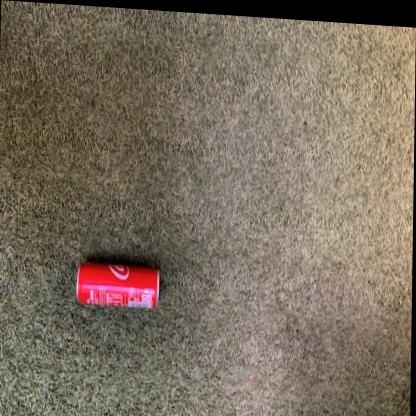trash: (77, 262, 158, 308)
